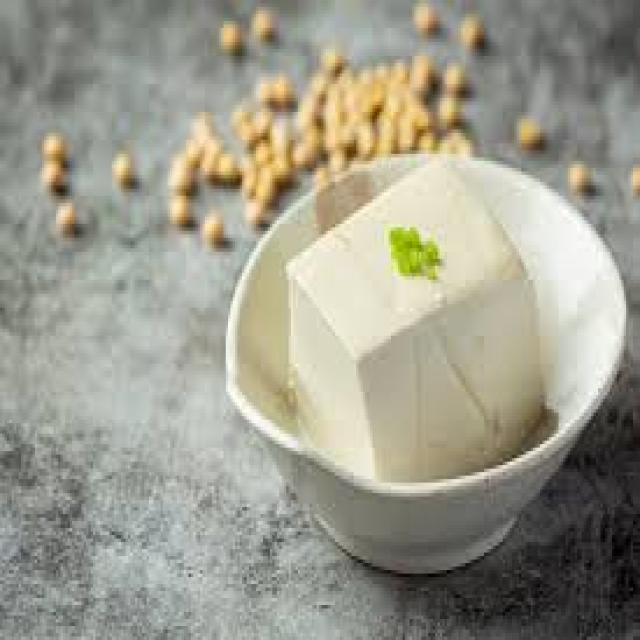tofu: (284, 145, 565, 493)
